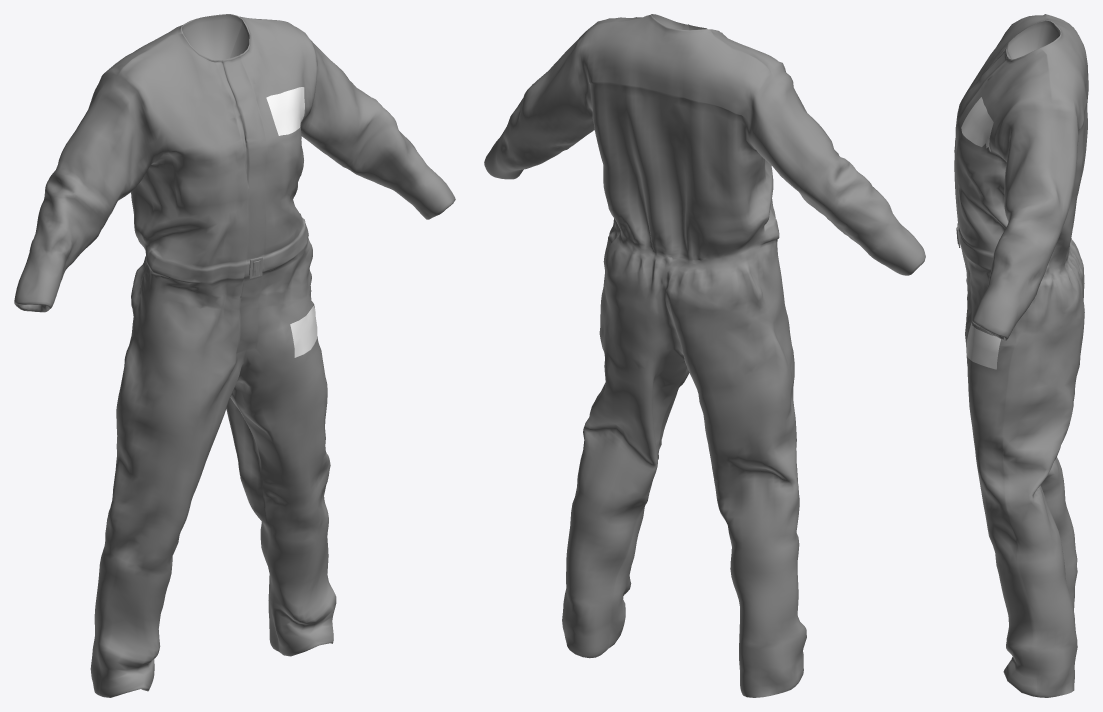
The model's file is nan_fanghufu.FBX.
3 renders of one model, left to right at view 1: azimuth 30°, elevation 25°; view 2: azimuth 150°, elevation 25°; view 3: azimuth 270°, elevation 25°, orthographic. The views are drawn at different scales.
Visible parts, largest first — view 1: fanghufu; view 2: fanghufu; view 3: fanghufu.
Boxes of the visible parts, x1,y1,x2,y2 form: fanghufu: (14,14,455,697); fanghufu: (484,14,925,697); fanghufu: (954,14,1088,697).
Bounding box in the file's own units: 107 × 151 × 29.73.
